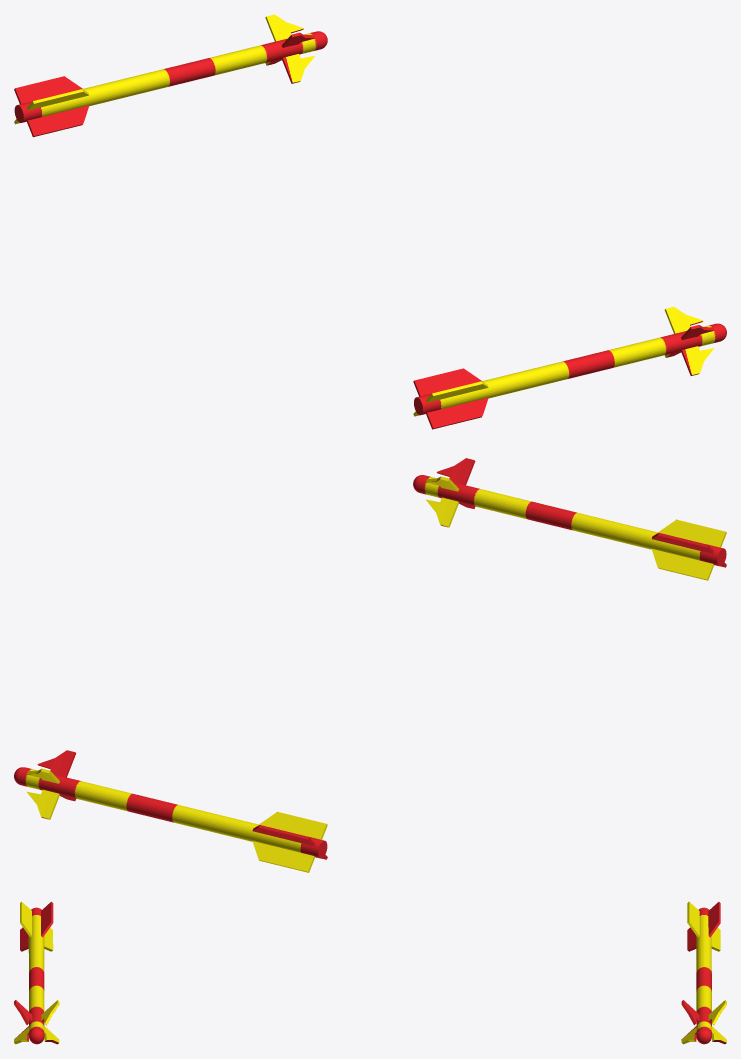
Rendered from aam3tf2a25.glb.
3 renders of one model, top to bottom at view 1: azimuth 30°, elevation 25°; view 2: azimuth 150°, elevation 25°; view 3: azimuth 270°, elevation 25°, orthographic. The views are drawn at different scales.
Visible parts, largest first — view 1: 球.001, 球.006; view 2: 球.006, 球.001; view 3: 球.006, 球.001.
Boxes of the visible parts, left/top/right/bottom form: 球.001: left=413, top=306, right=726, bottom=429; 球.006: left=14, top=14, right=327, bottom=137; 球.006: left=14, top=750, right=327, bottom=872; 球.001: left=413, top=458, right=726, bottom=580; 球.006: left=681, top=901, right=726, bottom=1044; 球.001: left=14, top=901, right=59, bottom=1044.
Bounding box in the file's own units: 4.06 × 0.6236 × 9.75.
Materials: 3 (3 with a texture image).
